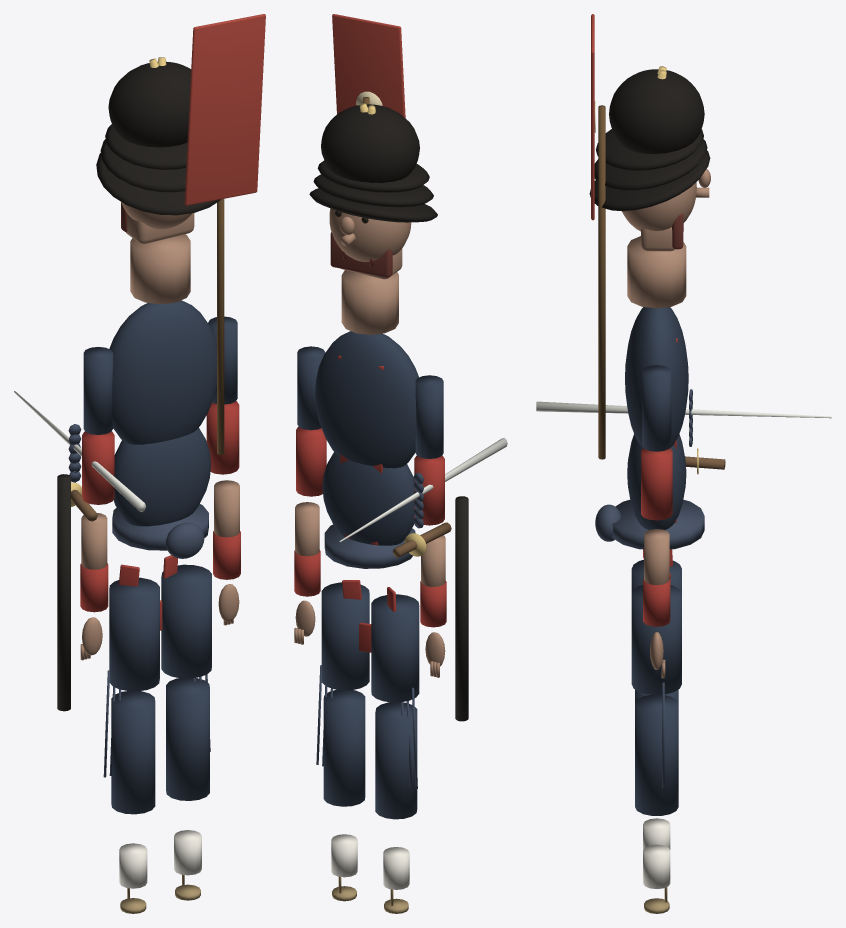
Rendered from samurai_takeda_v7.glb.
The picture shows the model from 3 angles, left to right: view 1: azimuth 30°, elevation 25°; view 2: azimuth 150°, elevation 25°; view 3: azimuth 270°, elevation 25°; orthographic projection. The views are drawn at different scales.
Parts seen in each view (by area): view 1: sashimono_cloth, chest, abdomen, kabuto_dome, right_hakama_upper, left_hakama_upper, left_hakama_lower, right_hakama_lower, neck, saya, left_upper_arm, shikoro_tier_2 (+19 smaller); view 2: chest, abdomen, kabuto_dome, sashimono_cloth, left_hakama_upper, right_hakama_lower, left_hakama_lower, right_hakama_upper, neck, saya, head, left_upper_arm (+18 smaller); view 3: kabuto_dome, chest, right_hakama_lower, right_hakama_upper, neck, sashimono_pole, right_upper_arm, obi, abdomen, right_kote, shikoro_tier_2, shikoro_tier_1 (+11 smaller).
Boxes of the visible parts, left/top/right/bottom form: sashimono_cloth: left=184, top=14, right=265, bottom=205; chest: left=109, top=300, right=216, bottom=444; abdomen: left=113, top=427, right=210, bottom=526; kabuto_dome: left=108, top=61, right=191, bottom=147; right_hakama_upper: left=161, top=564, right=211, bottom=678; left_hakama_upper: left=109, top=577, right=159, bottom=691; left_hakama_lower: left=111, top=691, right=155, bottom=814; right_hakama_lower: left=166, top=678, right=209, bottom=800; neck: left=130, top=234, right=190, bottom=304; saya: left=57, top=474, right=70, bottom=711; left_upper_arm: left=83, top=347, right=113, bottom=434; shikoro_tier_2: left=96, top=152, right=220, bottom=215; chest: left=315, top=331, right=418, bottom=468; abdomen: left=322, top=452, right=414, bottom=545; kabuto_dome: left=321, top=104, right=419, bottom=182; sashimono_cloth: left=332, top=14, right=405, bottom=117; left_hakama_upper: left=371, top=594, right=419, bottom=702; right_hakama_lower: left=323, top=689, right=365, bottom=806; left_hakama_lower: left=375, top=702, right=417, bottom=819; right_hakama_upper: left=321, top=582, right=369, bottom=690; neck: left=341, top=270, right=398, bottom=334; saya: left=455, top=496, right=468, bottom=721; head: left=329, top=208, right=411, bottom=261; left_upper_arm: left=415, top=375, right=443, bottom=458; kabuto_dome: left=609, top=69, right=704, bottom=153; chest: left=625, top=307, right=688, bottom=447; right_hakama_lower: left=635, top=694, right=678, bottom=815; right_hakama_upper: left=631, top=585, right=681, bottom=694; neck: left=627, top=236, right=686, bottom=308; sashimono_pole: left=598, top=105, right=605, bottom=459; right_upper_arm: left=642, top=365, right=671, bottom=451; obi: left=612, top=499, right=704, bottom=549; abdomen: left=627, top=434, right=686, bottom=529; right_kote: left=641, top=448, right=672, bottom=520; shikoro_tier_2: left=589, top=150, right=710, bottom=211; shikoro_tier_1: left=594, top=139, right=707, bottom=190.
Bounding box in the file's own units: 0.4499 × 2.14 × 0.6485.
